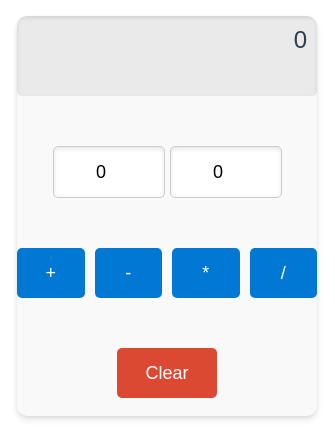
Test case: Simple Calculator suite › should replace the first input with the result
Replace the text in the 1st number field with "20" at x=108, y=172, box [52,146,164,198]
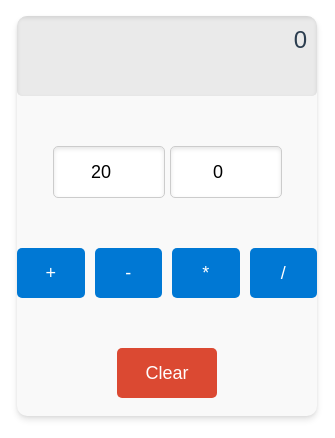
Replace the text in the 2nd number field with "20" at x=226, y=172, box [170,146,282,198]
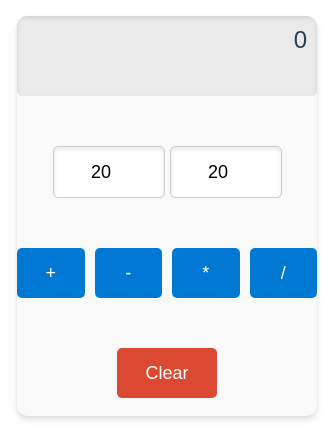
Click the button "+" at x=51, y=273, box [17,248,84,298]
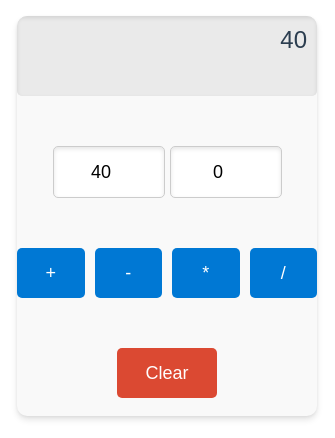
Expected: the 1st number field holds "40", [52,146,164,198]
